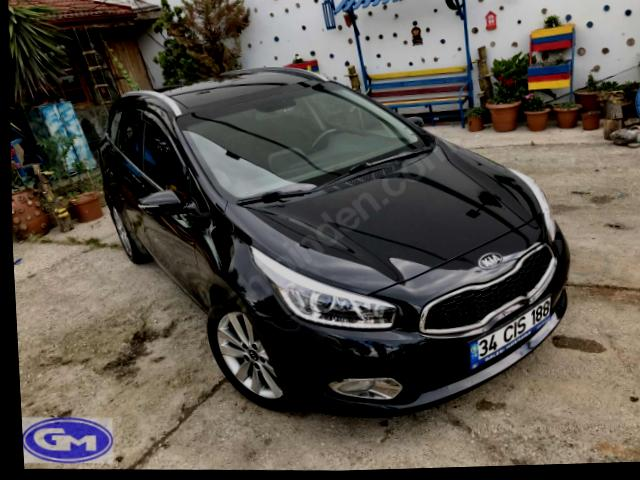plaka: (469, 298, 551, 370)
